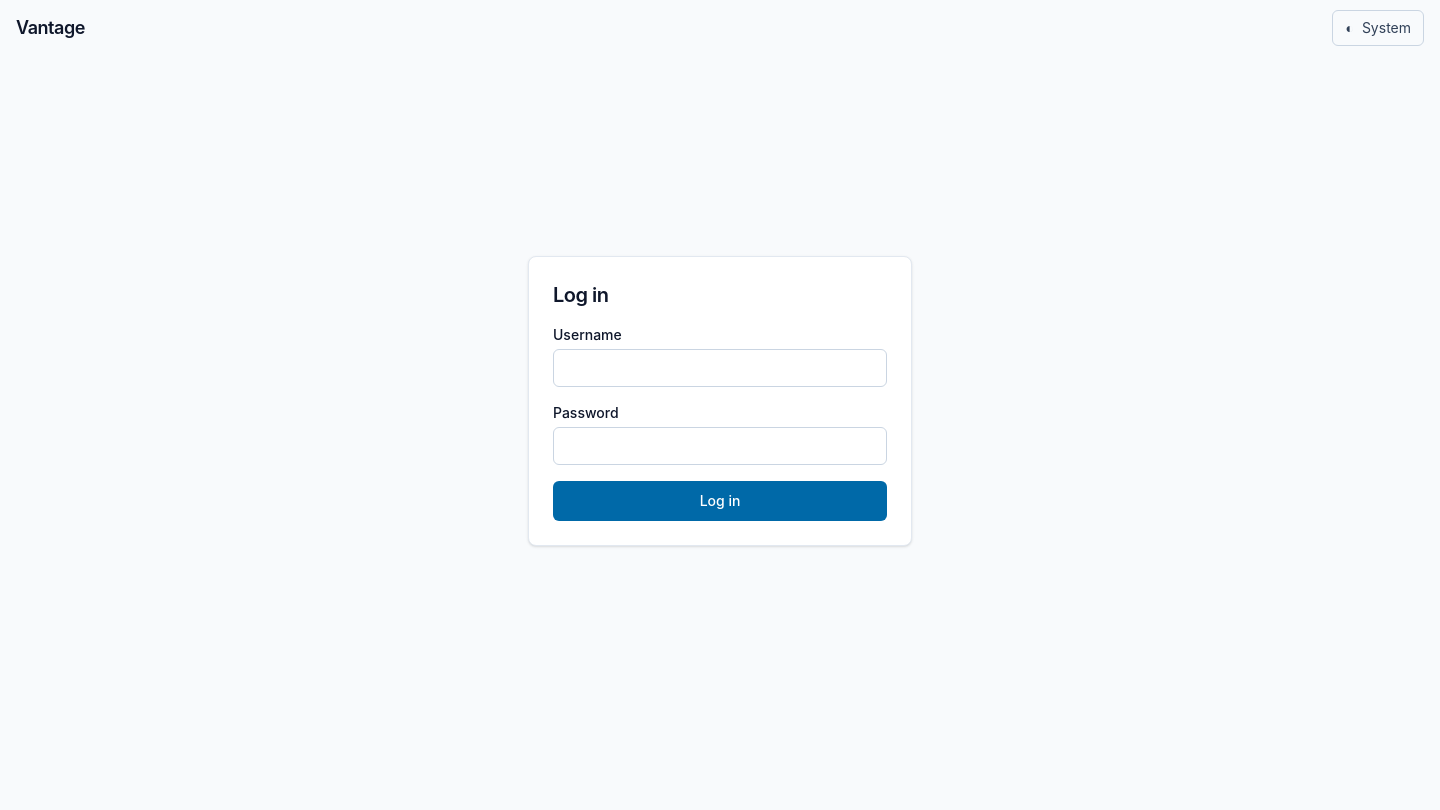
Test case: login › asks for both fields before sending
Expected: the heading "Log in" is shown, [553,283,608,307]
Click the button "Log in": (720, 501) [553,481,887,521]
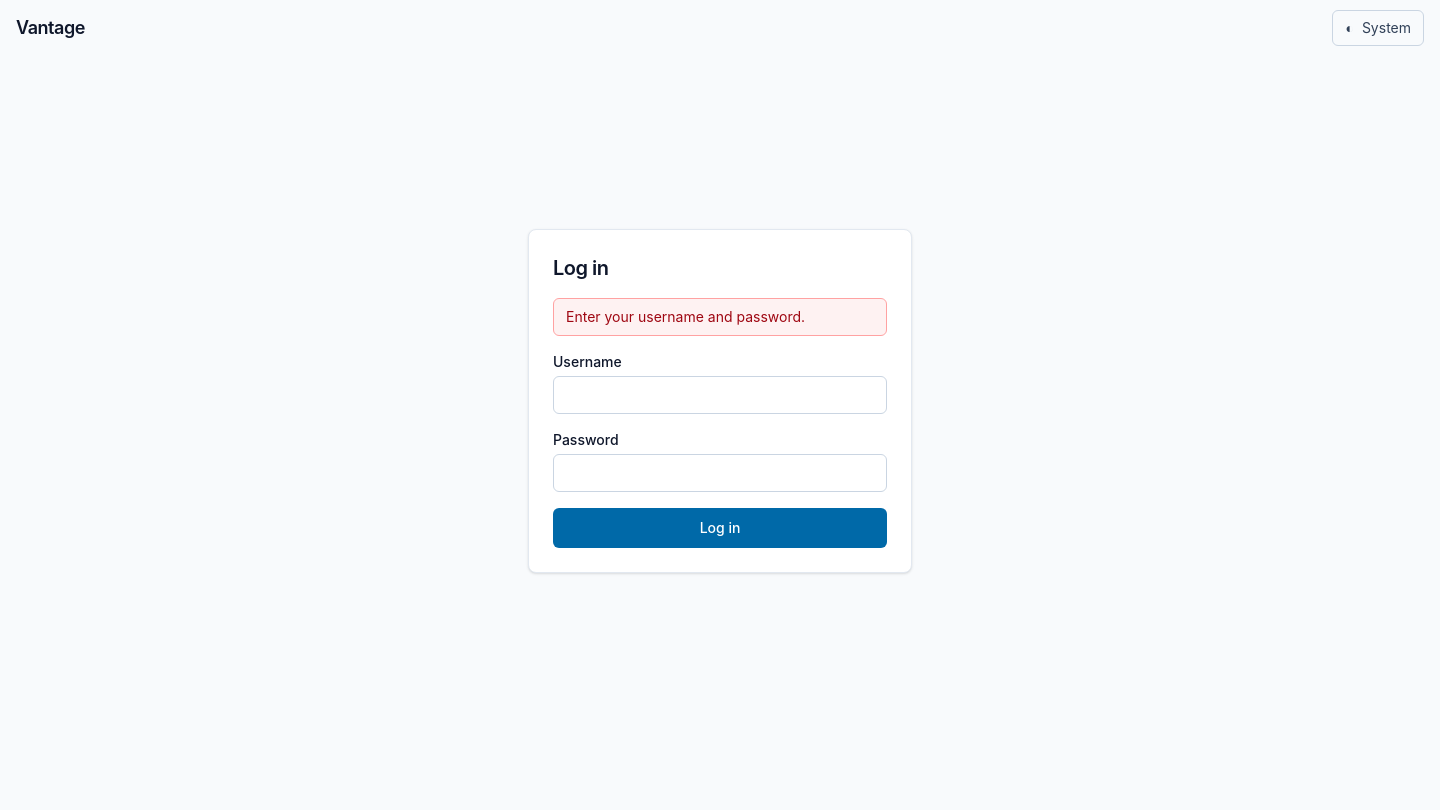
Expected: the message reads "Enter your username and password.", [566,308,805,325]
